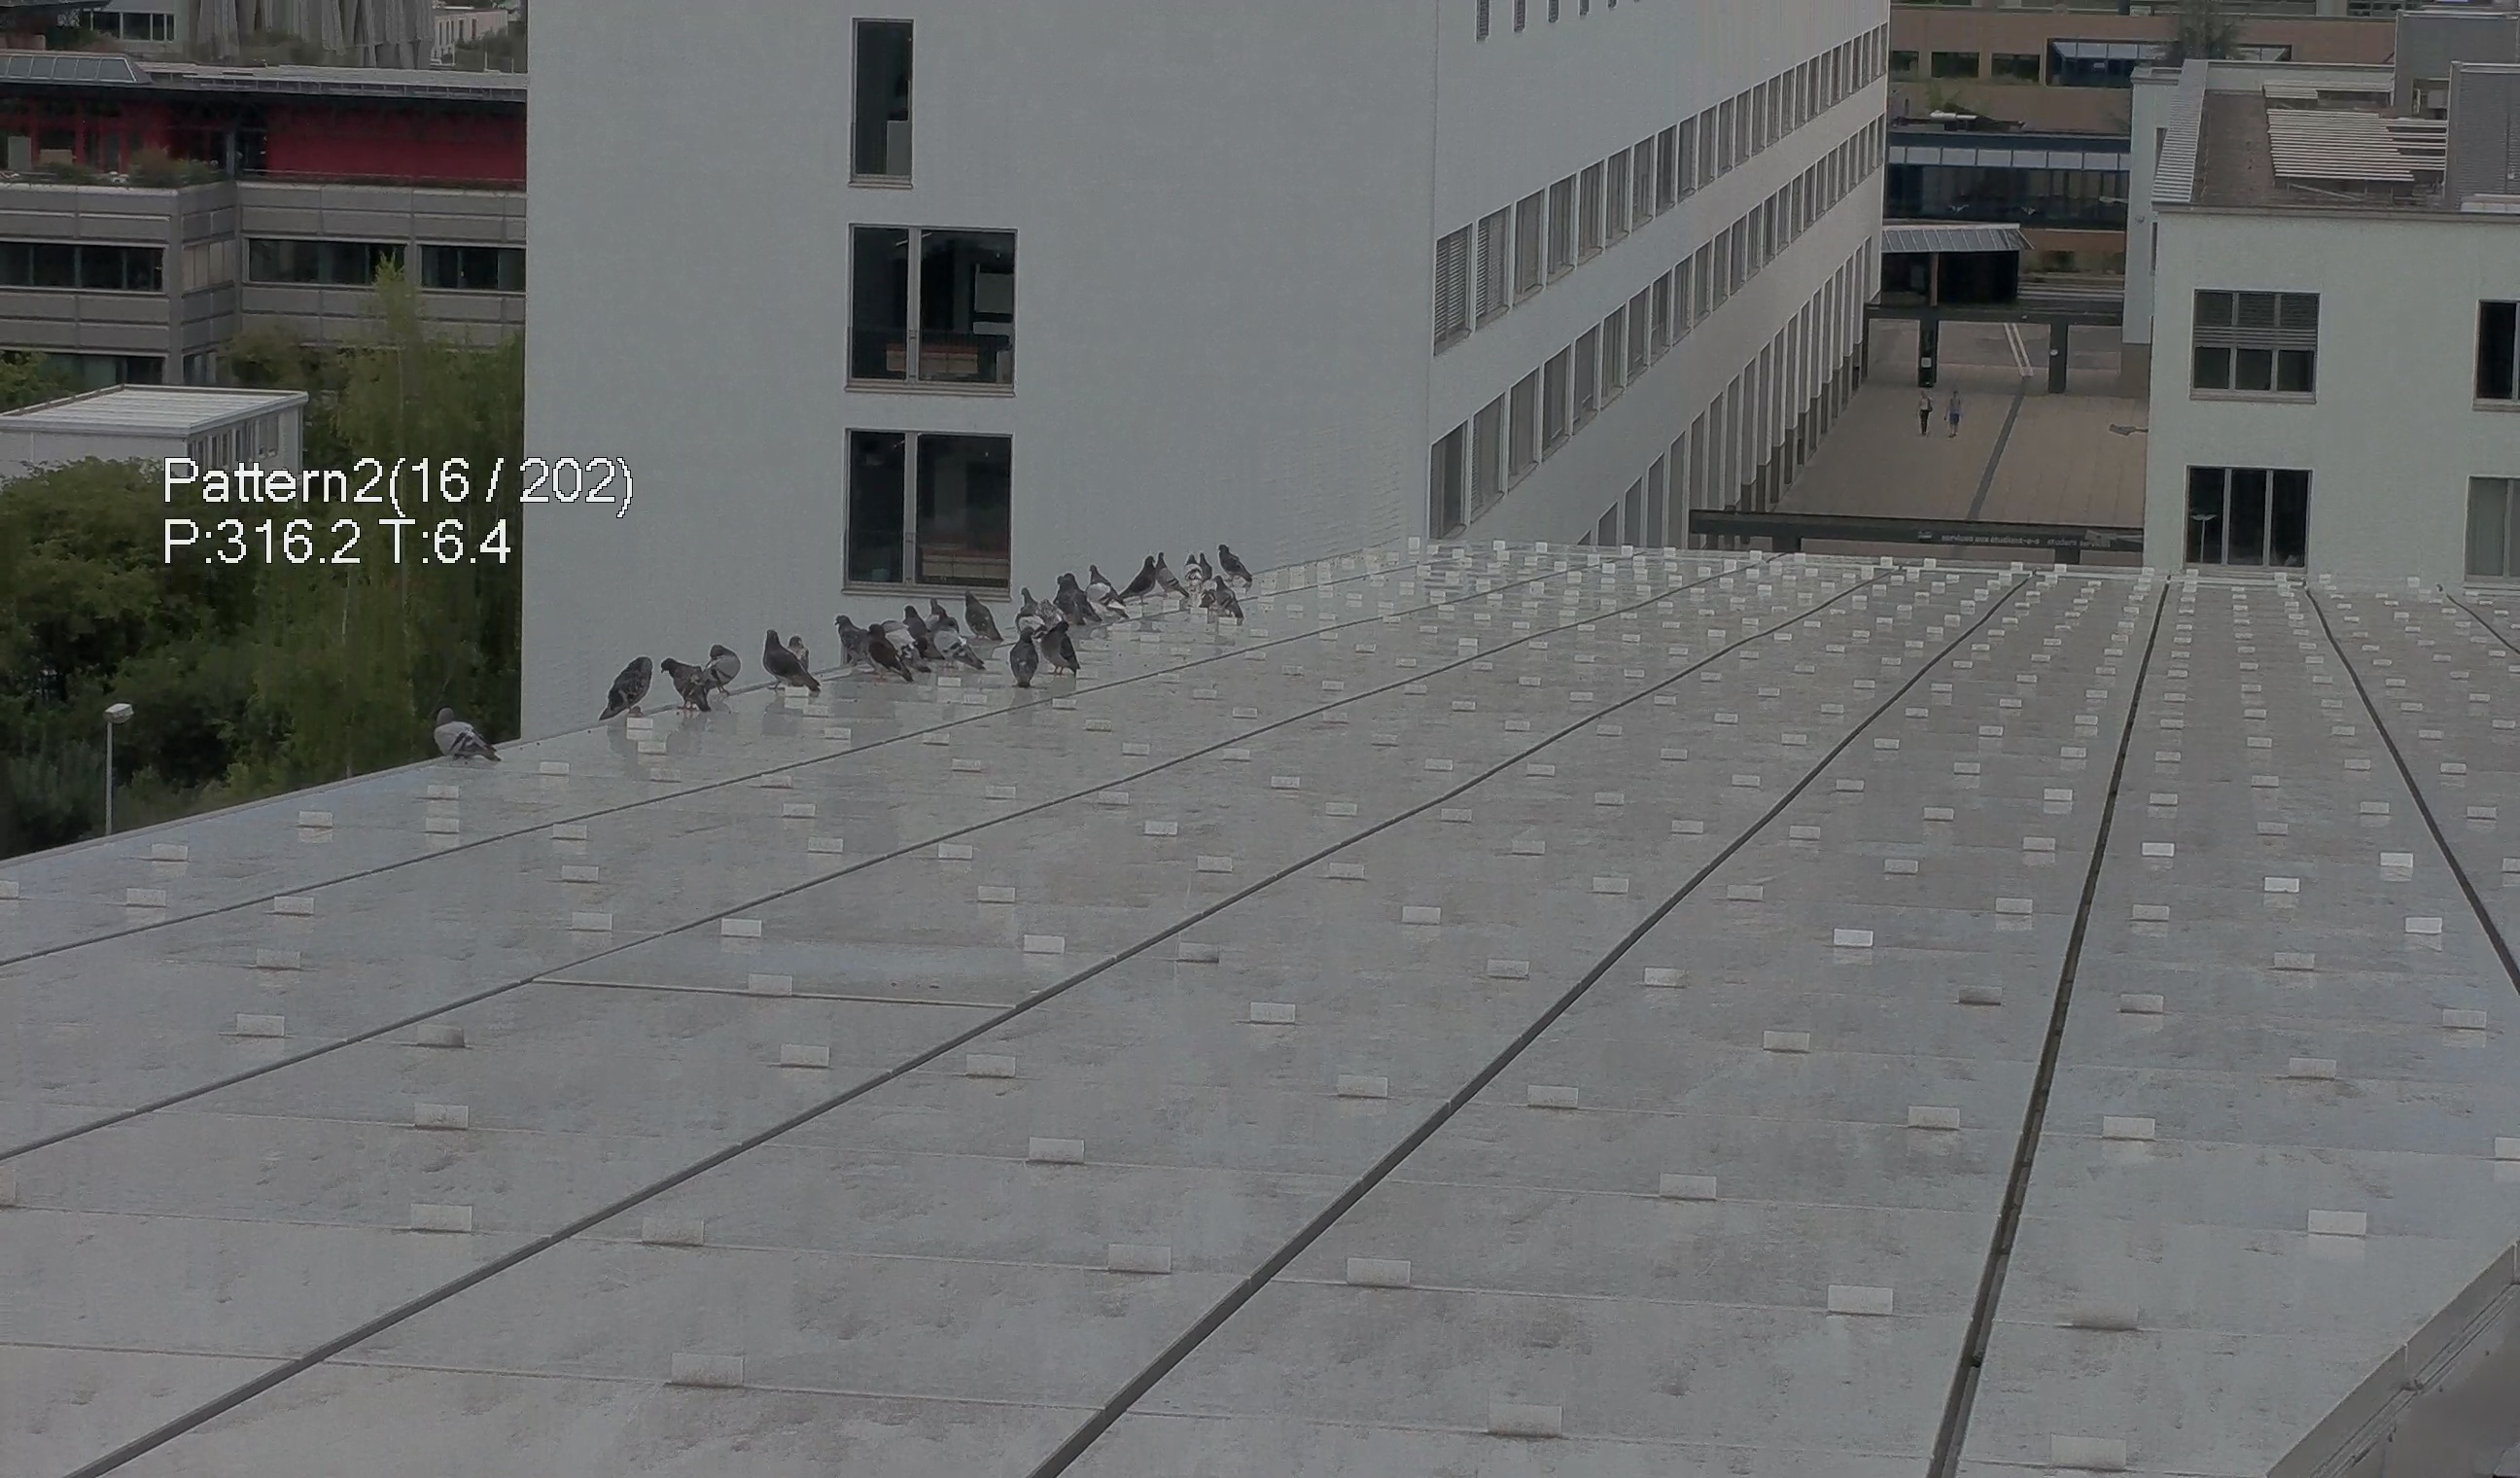Pigeon: (431, 697, 519, 778), (751, 621, 816, 700), (591, 653, 658, 727), (659, 655, 710, 714), (862, 621, 913, 679), (927, 619, 981, 670), (1002, 623, 1043, 691), (964, 586, 1002, 648), (702, 635, 740, 695), (1055, 577, 1104, 621), (1150, 549, 1191, 598), (1089, 579, 1133, 623), (1045, 621, 1082, 672), (1215, 537, 1252, 586), (1122, 552, 1157, 602), (830, 607, 862, 660), (1208, 574, 1243, 618), (781, 626, 814, 665), (1182, 552, 1203, 588), (902, 602, 923, 633), (925, 596, 948, 625), (1016, 584, 1041, 609)
